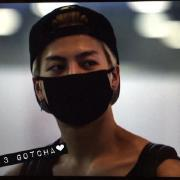OK: (39, 50, 112, 123)
